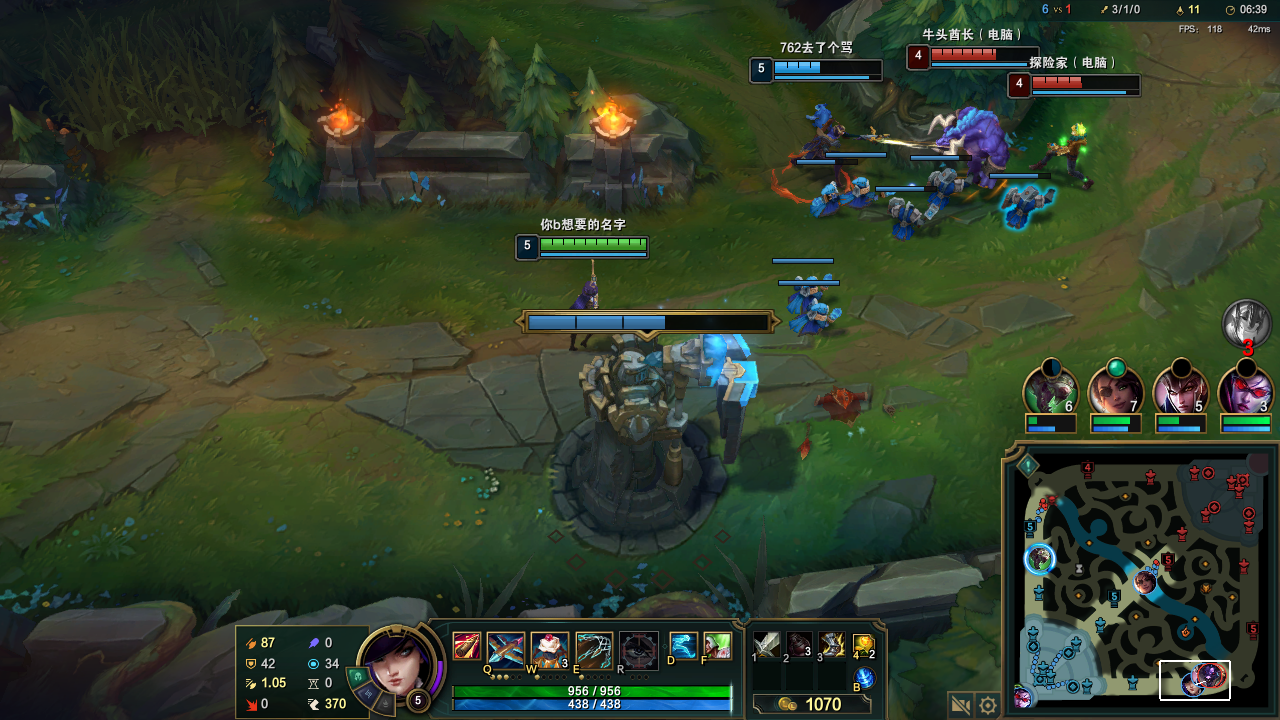DFYX: (1031, 73, 1119, 90), (928, 48, 1024, 61)
WFXB: (1005, 183, 1040, 230), (893, 198, 923, 238), (794, 306, 833, 332), (932, 172, 957, 200), (789, 280, 818, 304), (817, 185, 841, 212), (850, 178, 874, 204)
